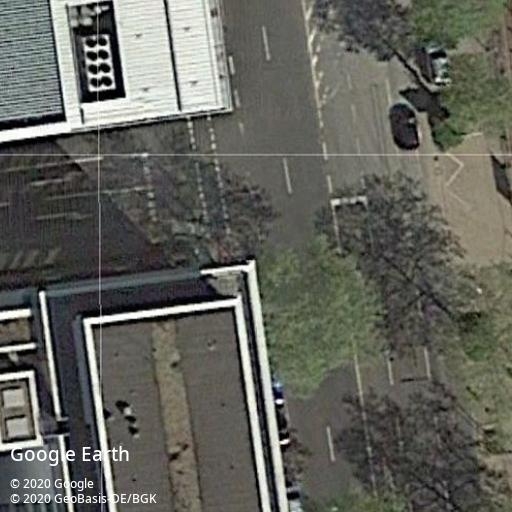Chiller: (82, 34, 116, 91)
